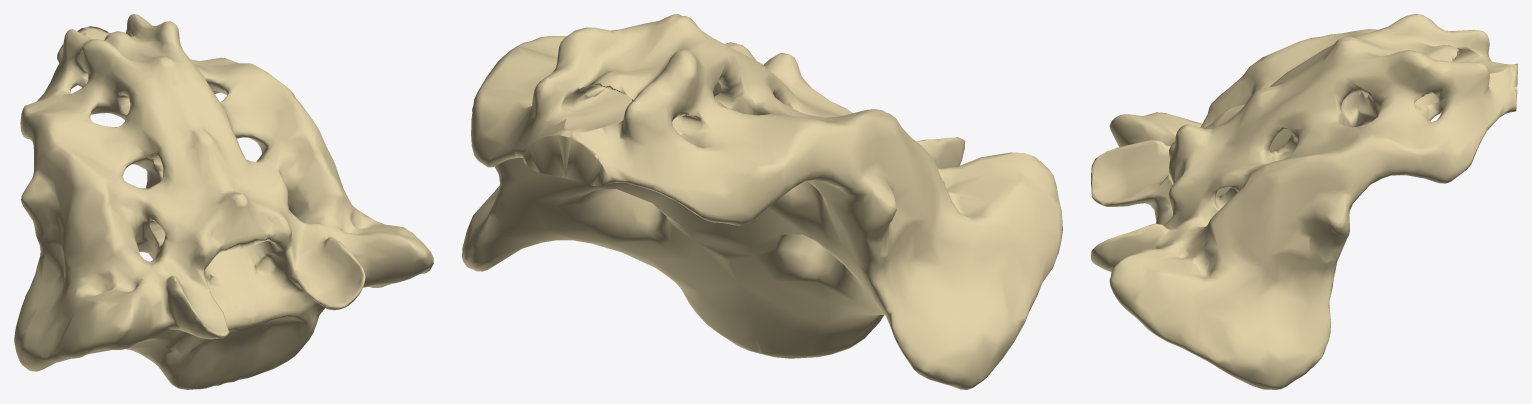
The picture shows the model from 3 angles, left to right: view 1: azimuth 30°, elevation 25°; view 2: azimuth 150°, elevation 25°; view 3: azimuth 270°, elevation 25°; orthographic projection. The views are drawn at different scales.
Visible parts, largest first — view 1: 骶骨; view 2: 骶骨; view 3: 骶骨.
Boxes of the visible parts, x1=… form: 骶骨: x1=14, y1=14, x2=433, y2=389; 骶骨: x1=462, y1=14, x2=1062, y2=389; 骶骨: x1=1091, y1=14, x2=1517, y2=389.
Size of the model in its own units: 0.1811 by 0.1347 by 0.1696.
